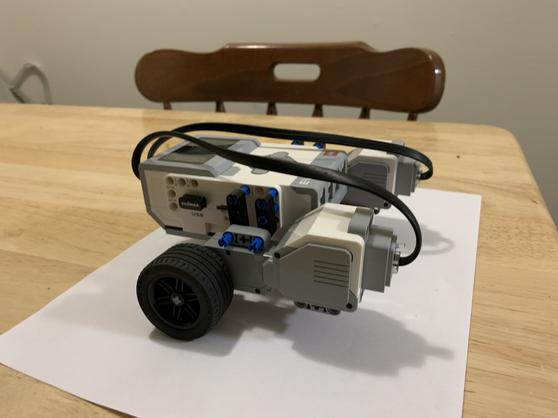robot: (109, 123, 436, 331)
